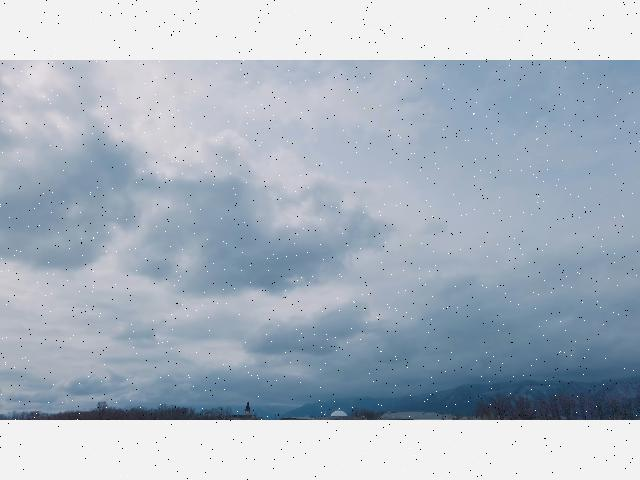Anti-Drone: (280, 292, 290, 304)
